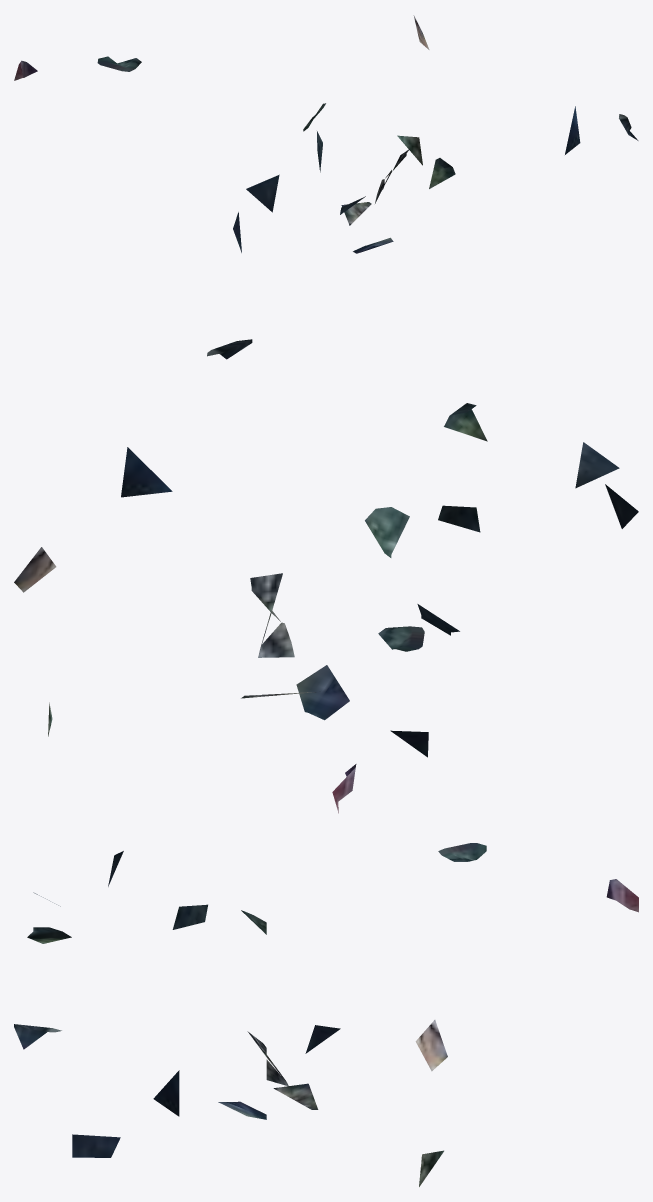
The picture shows the model from 3 angles, top to bottom: view 1: azimuth 30°, elevation 25°; view 2: azimuth 150°, elevation 25°; view 3: azimuth 270°, elevation 25°; orthographic projection. The views are drawn at different scales.
Visible parts, largest first — view 1: 30436272704370404412_1; view 2: 30436272704370404412_1; view 3: 30436272704370404412_1.
Boxes of the visible parts, x1,y1,x2,y2 form: 30436272704370404412_1: (14,15,638,253); 30436272704370404412_1: (14,339,638,813); 30436272704370404412_1: (14,843,638,1186).
Bounding box in the file's own units: 22.87 × 10.33 × 29.77.
1 material, 1 textured.
